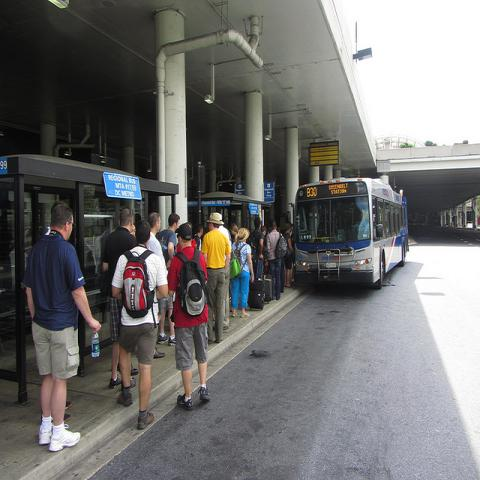bus: (290, 180, 413, 294)
